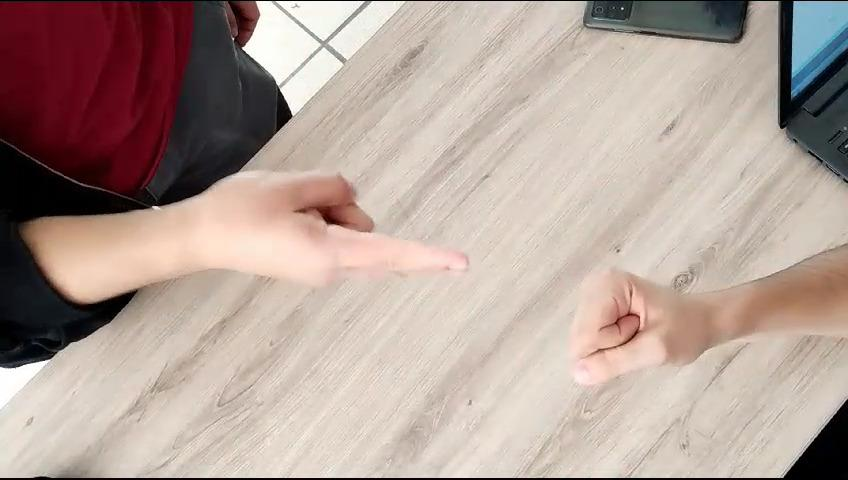Scissor: (161, 122, 496, 326)
Stone: (557, 245, 720, 421)
